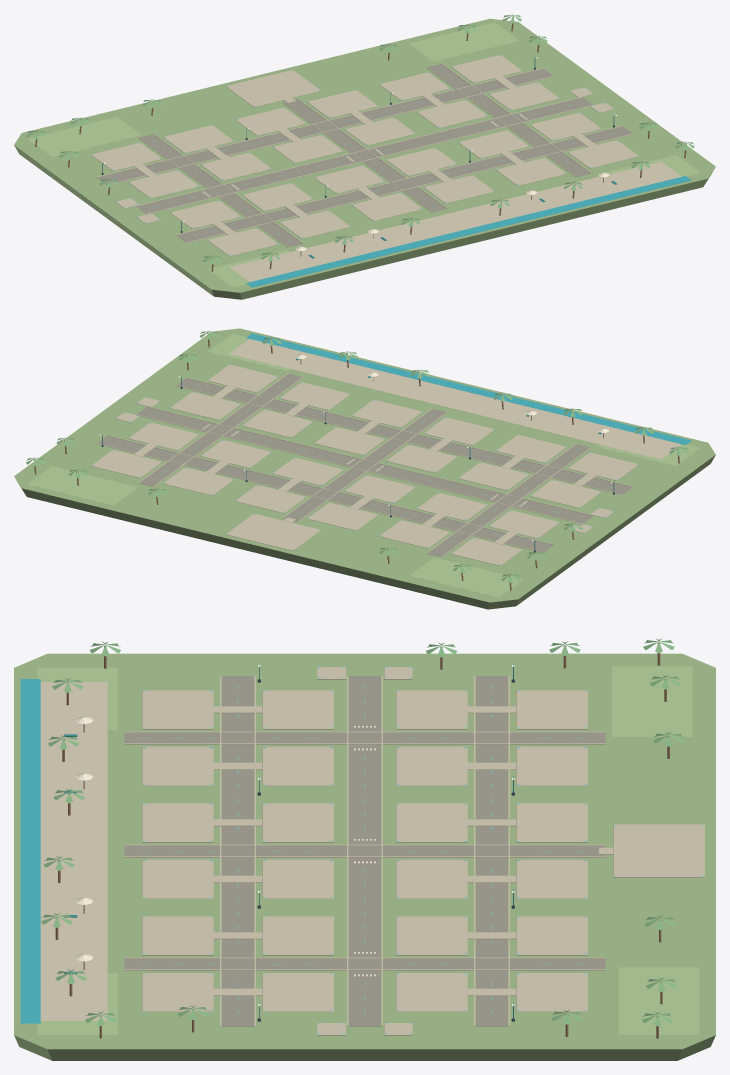
Rendered from ground.glb.
3 renders of one model, top to bottom at view 1: azimuth 30°, elevation 25°; view 2: azimuth 150°, elevation 25°; view 3: azimuth 270°, elevation 25°, orthographic. The views are drawn at different scales.
Parts seen in each view (by area): view 1: planet_resort__Terrain, planet_resort__Roads, planet_resort__Decoration; view 2: planet_resort__Terrain, planet_resort__Roads, planet_resort__Decoration; view 3: planet_resort__Terrain, planet_resort__Roads, planet_resort__Decoration.
Boxes of the visible parts, box(x1,y1,x2,y2) form: planet_resort__Terrain: box(14, 18, 715, 299); planet_resort__Roads: box(91, 54, 638, 256); planet_resort__Decoration: box(26, 14, 694, 287); planet_resort__Terrain: box(14, 328, 715, 609); planet_resort__Roads: box(91, 364, 638, 565); planet_resort__Decoration: box(26, 331, 691, 590); planet_resort__Terrain: box(14, 653, 715, 1060); planet_resort__Roads: box(124, 666, 704, 1035); planet_resort__Decoration: box(20, 638, 684, 1038).
Bounding box in the file's own units: 140 × 6.48 × 105.
